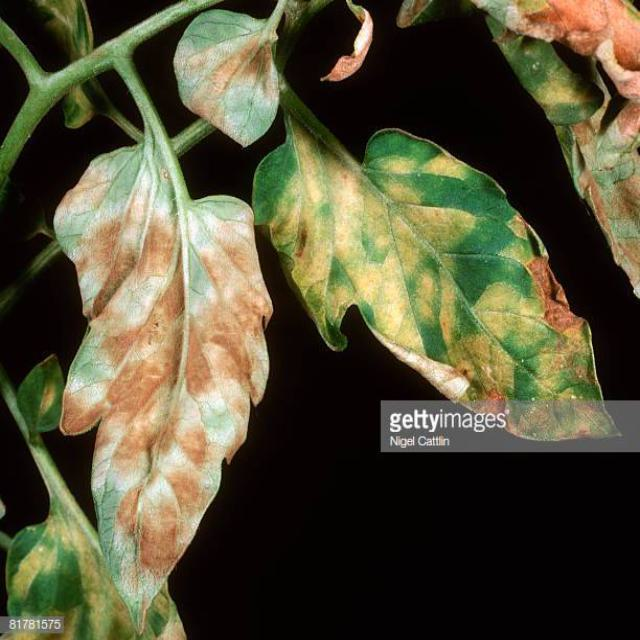Leaf_Mold: (262, 121, 627, 443), (52, 150, 273, 638), (396, 1, 640, 299), (3, 519, 186, 640), (166, 11, 279, 149), (325, 3, 376, 88)
